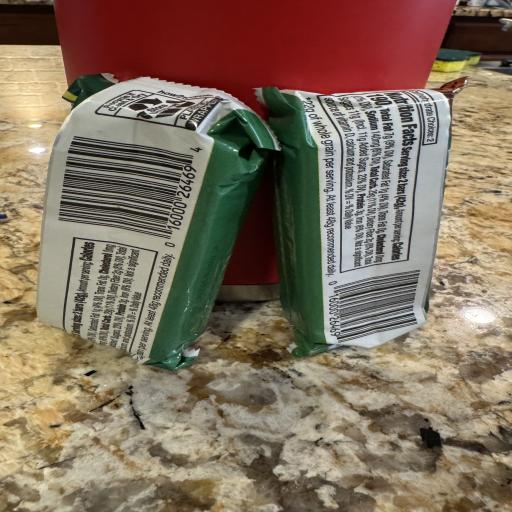granola: (38, 75, 278, 369), (258, 79, 465, 356)
